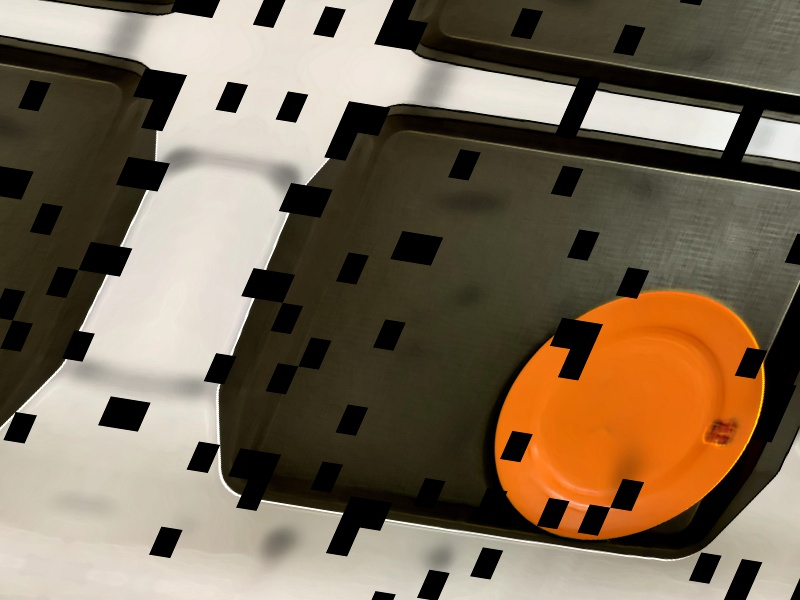dish10: (443, 270, 799, 564)
